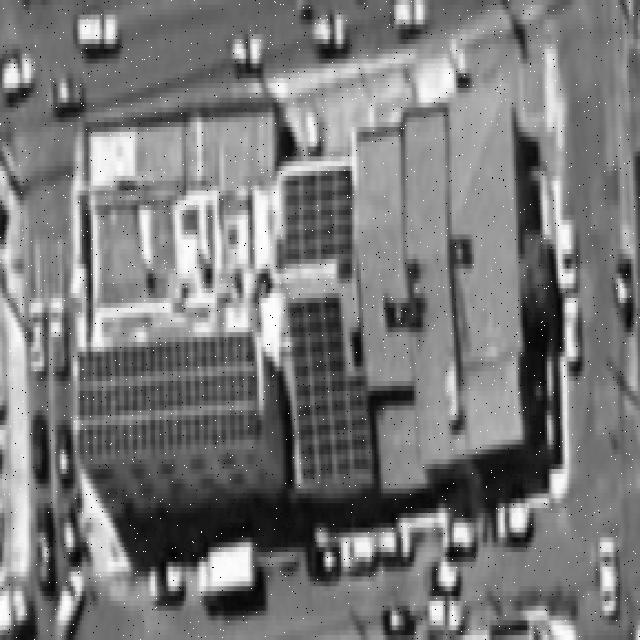painel: (284, 279, 381, 503), (78, 337, 265, 451), (276, 157, 362, 280)
